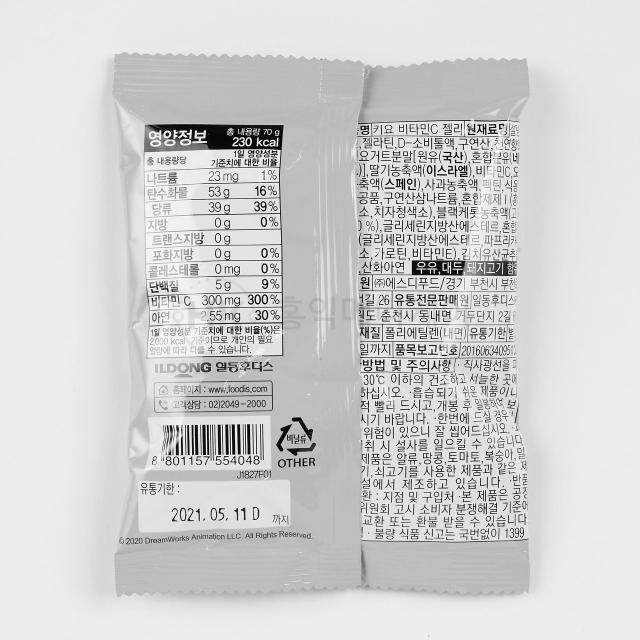Nutrition Label: (136, 115, 296, 362)
